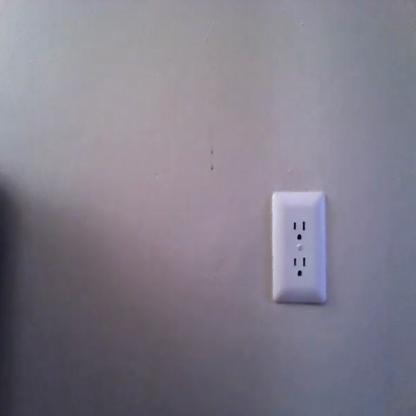OUTLET: (270, 191, 328, 304)
